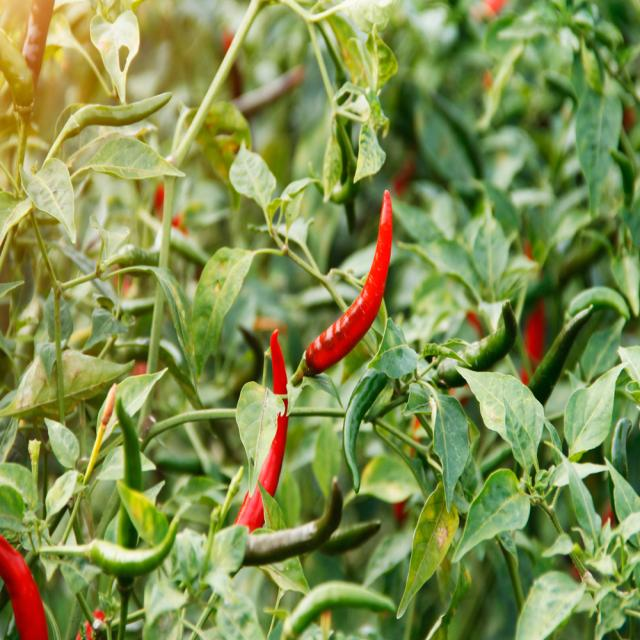Ripe: (302, 191, 392, 374), (236, 325, 291, 526)
Unripe: (242, 478, 342, 565), (433, 300, 517, 387), (282, 583, 395, 639), (529, 305, 592, 404), (342, 369, 388, 492), (85, 519, 178, 577), (64, 93, 171, 134), (113, 394, 141, 546), (22, 0, 53, 89), (0, 28, 34, 106), (320, 519, 381, 555), (611, 418, 632, 479)
